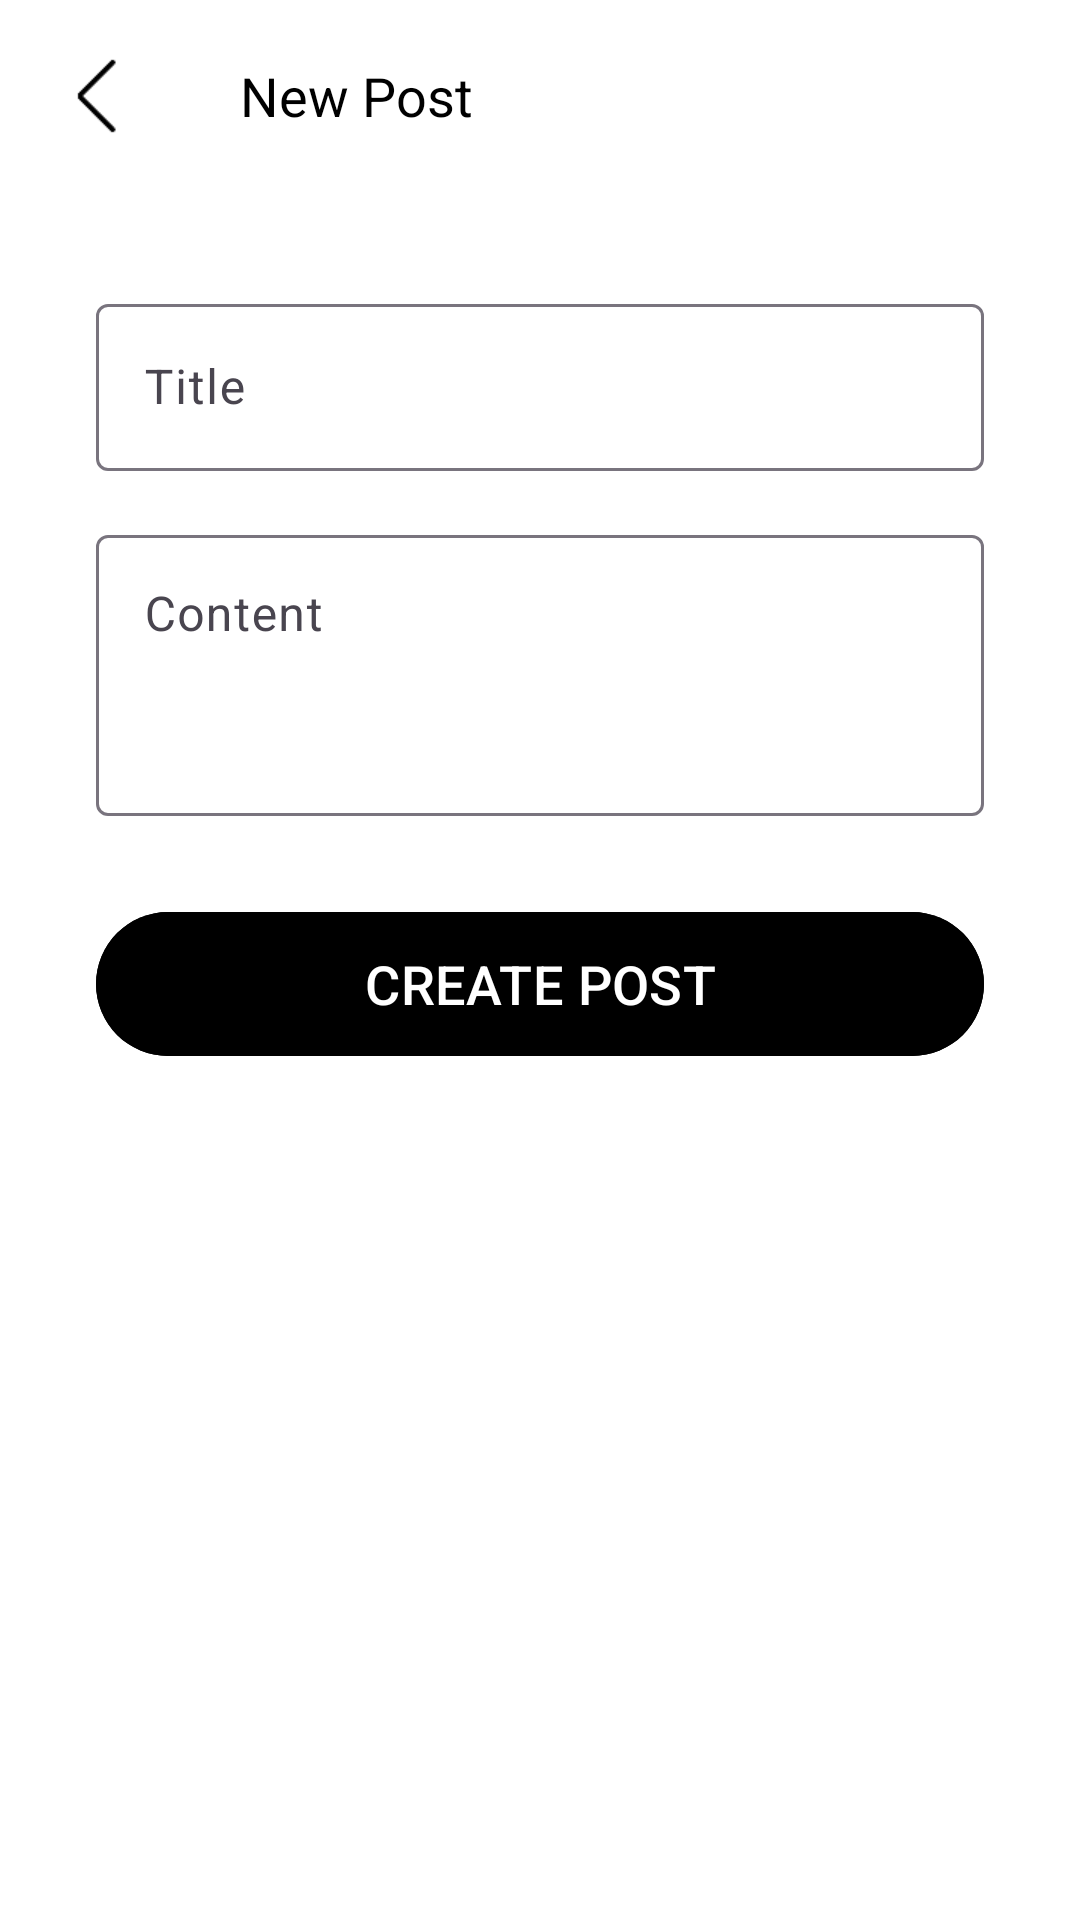

Icon bounding boxes for this 1080 × 1920 phone screenshot, format box(x1, y1, x2, y2):
arrow back: box(77, 59, 116, 133)
